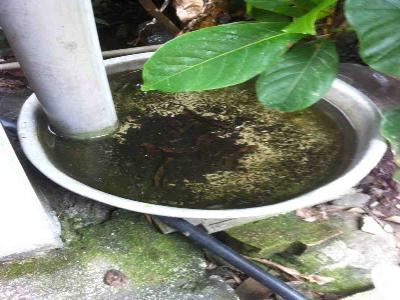bowl: (16, 50, 390, 220)
